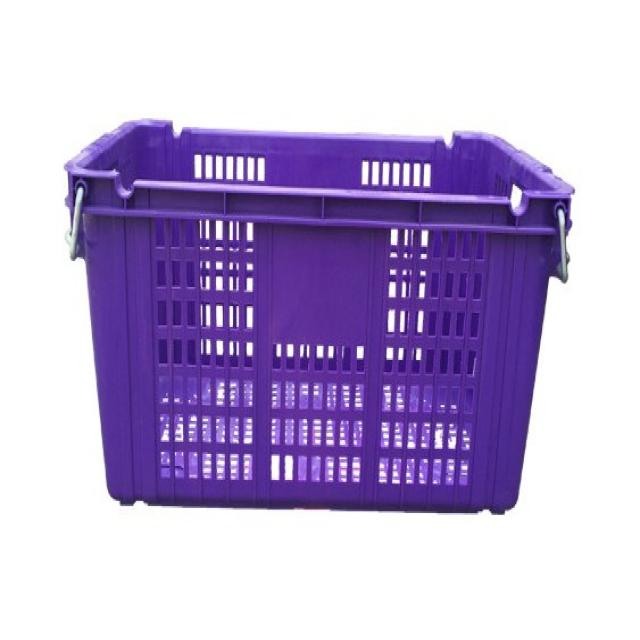basket: (52, 117, 577, 521)
